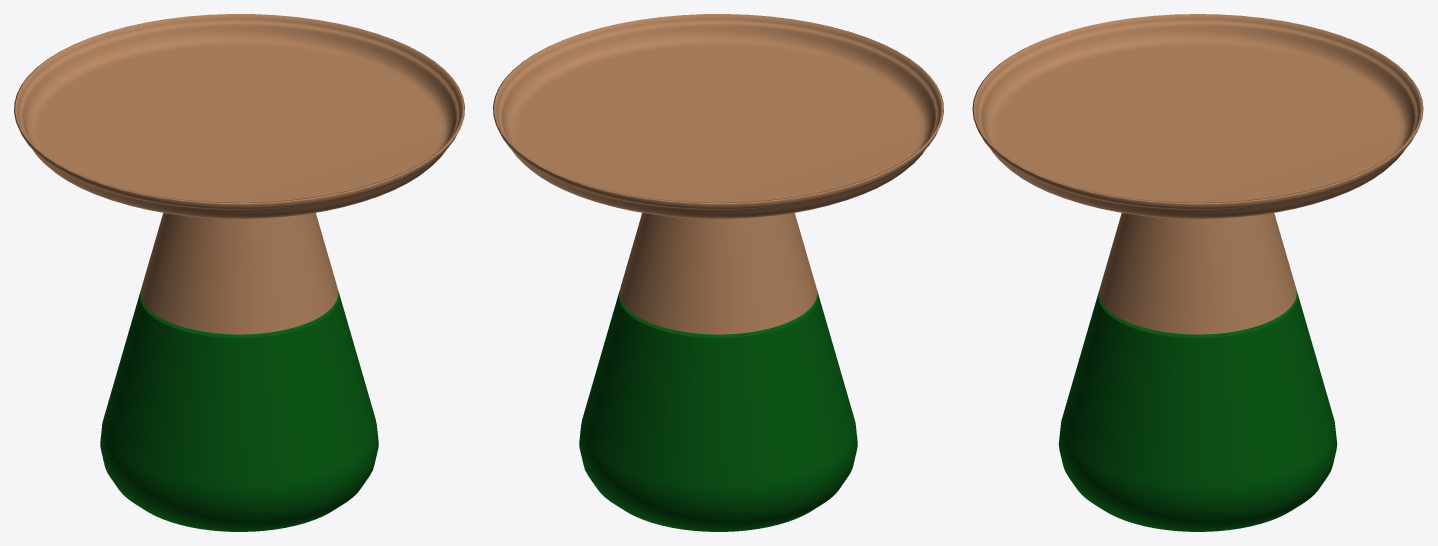
The model's file is Coffee_table_1.fbx.
3 renders of one model, left to right at view 1: azimuth 30°, elevation 25°; view 2: azimuth 150°, elevation 25°; view 3: azimuth 270°, elevation 25°, orthographic.
Visible parts, largest first — view 1: Coffee_table_1; view 2: Coffee_table_1; view 3: Coffee_table_1.
Boxes of the visible parts, box(x1,y1,x2,y2) form: Coffee_table_1: box(14, 14, 464, 531); Coffee_table_1: box(493, 14, 943, 531); Coffee_table_1: box(972, 14, 1423, 531).
Size of the model in its own units: 50.97 by 48 by 50.97.
